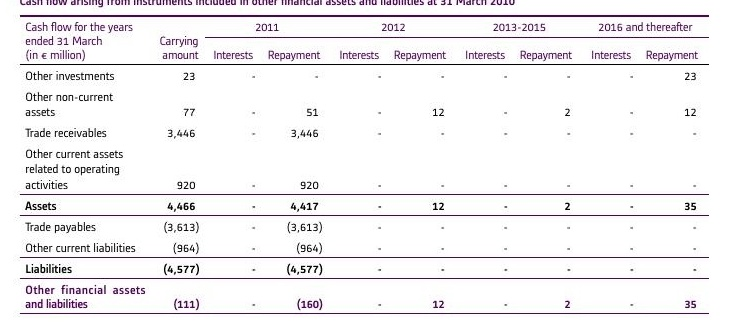table: (0, 0, 733, 331)
